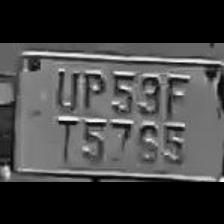3: (134, 69, 160, 115)
5: (105, 66, 135, 116), (77, 116, 107, 160), (160, 119, 186, 165)
7: (107, 118, 131, 160)
8: (132, 120, 160, 164)
F: (161, 69, 189, 121)
P: (77, 65, 107, 113)
T: (50, 114, 78, 166)
U: (48, 64, 80, 114)
